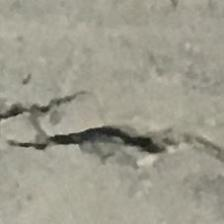Crack: (0, 83, 224, 172)
